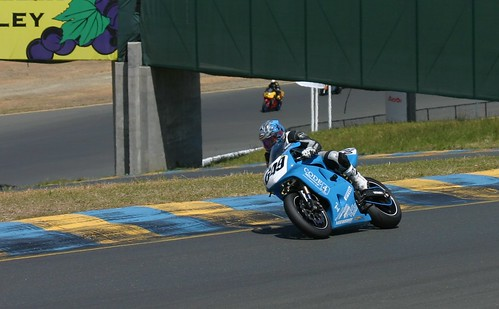helmet: (258, 114, 281, 145)
